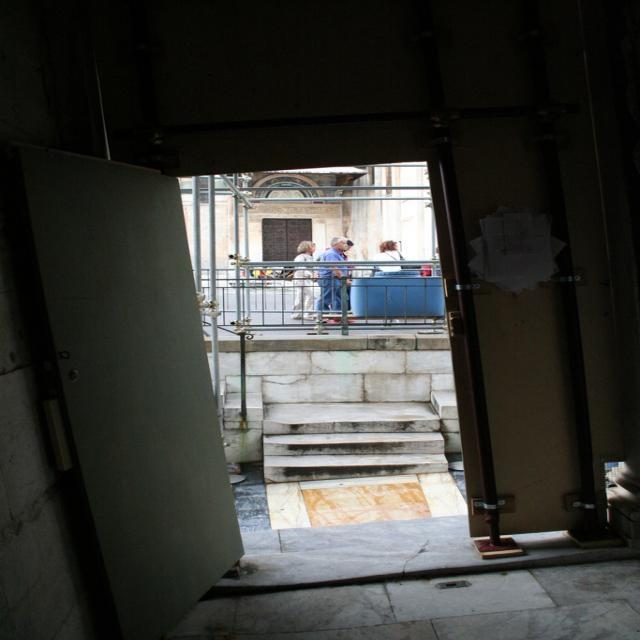door: (0, 141, 478, 640)
